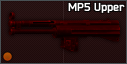MP5 9x19 upper receiver: (0, 0, 127, 64)
